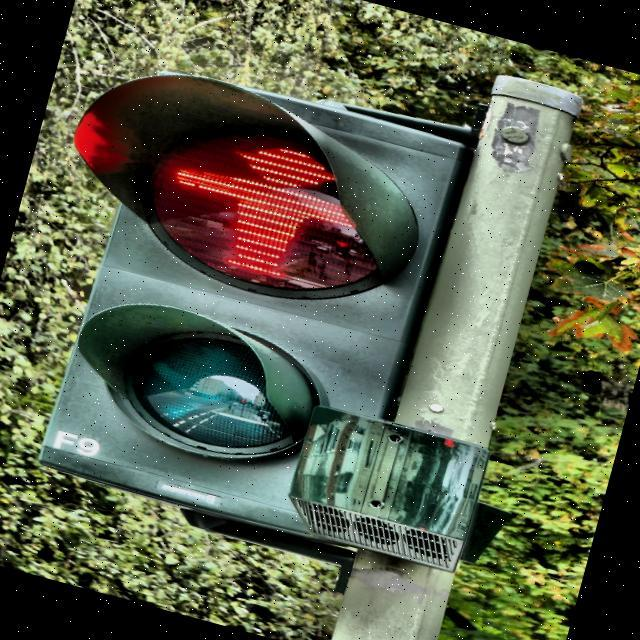red_light: (150, 116, 381, 300)
